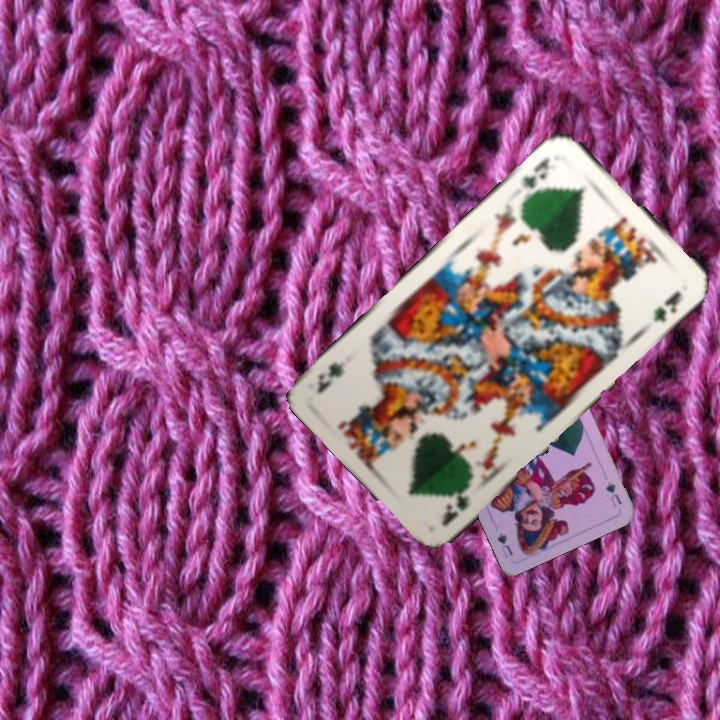GK: (437, 480, 474, 529), (518, 153, 552, 191)
GU: (602, 478, 624, 510)
